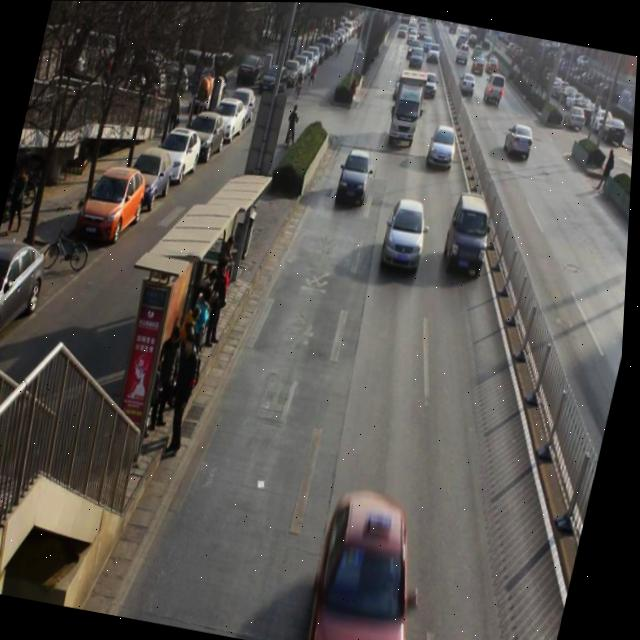bus: (388, 69, 430, 148)
car: (307, 489, 439, 640), (440, 190, 502, 277), (378, 194, 438, 278), (335, 145, 379, 207), (501, 118, 540, 164), (426, 125, 463, 172), (419, 66, 443, 103), (456, 69, 480, 97), (408, 46, 426, 70)
truck: (481, 68, 509, 109)
